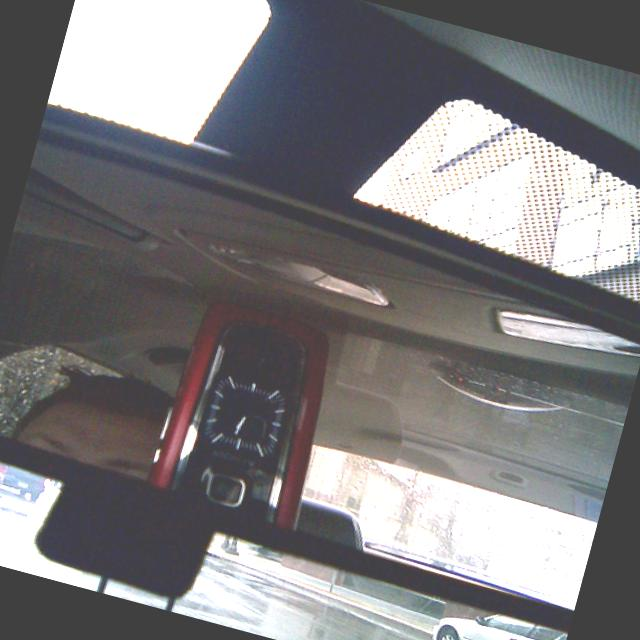Vehicle: (418, 597, 567, 640), (0, 464, 52, 505), (456, 522, 498, 570)
